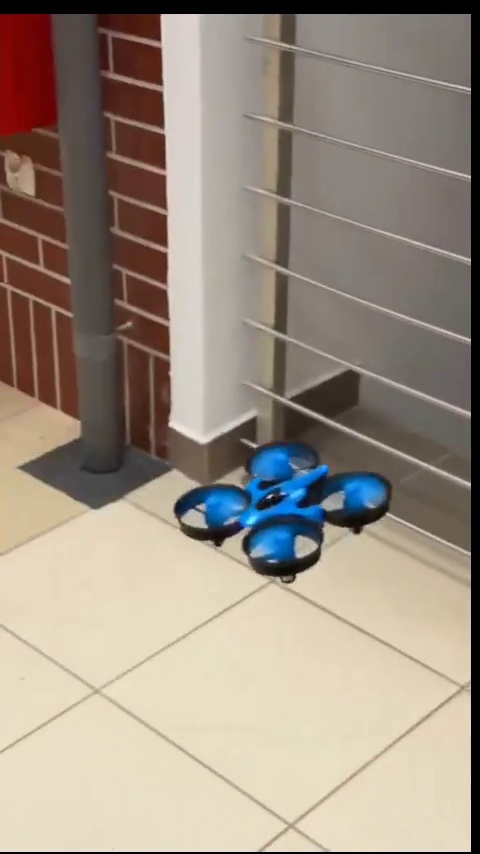drone: (171, 440, 392, 588)
